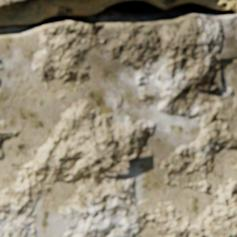brick: (0, 14, 236, 236), (0, 0, 23, 6)
crack: (2, 0, 236, 28)
